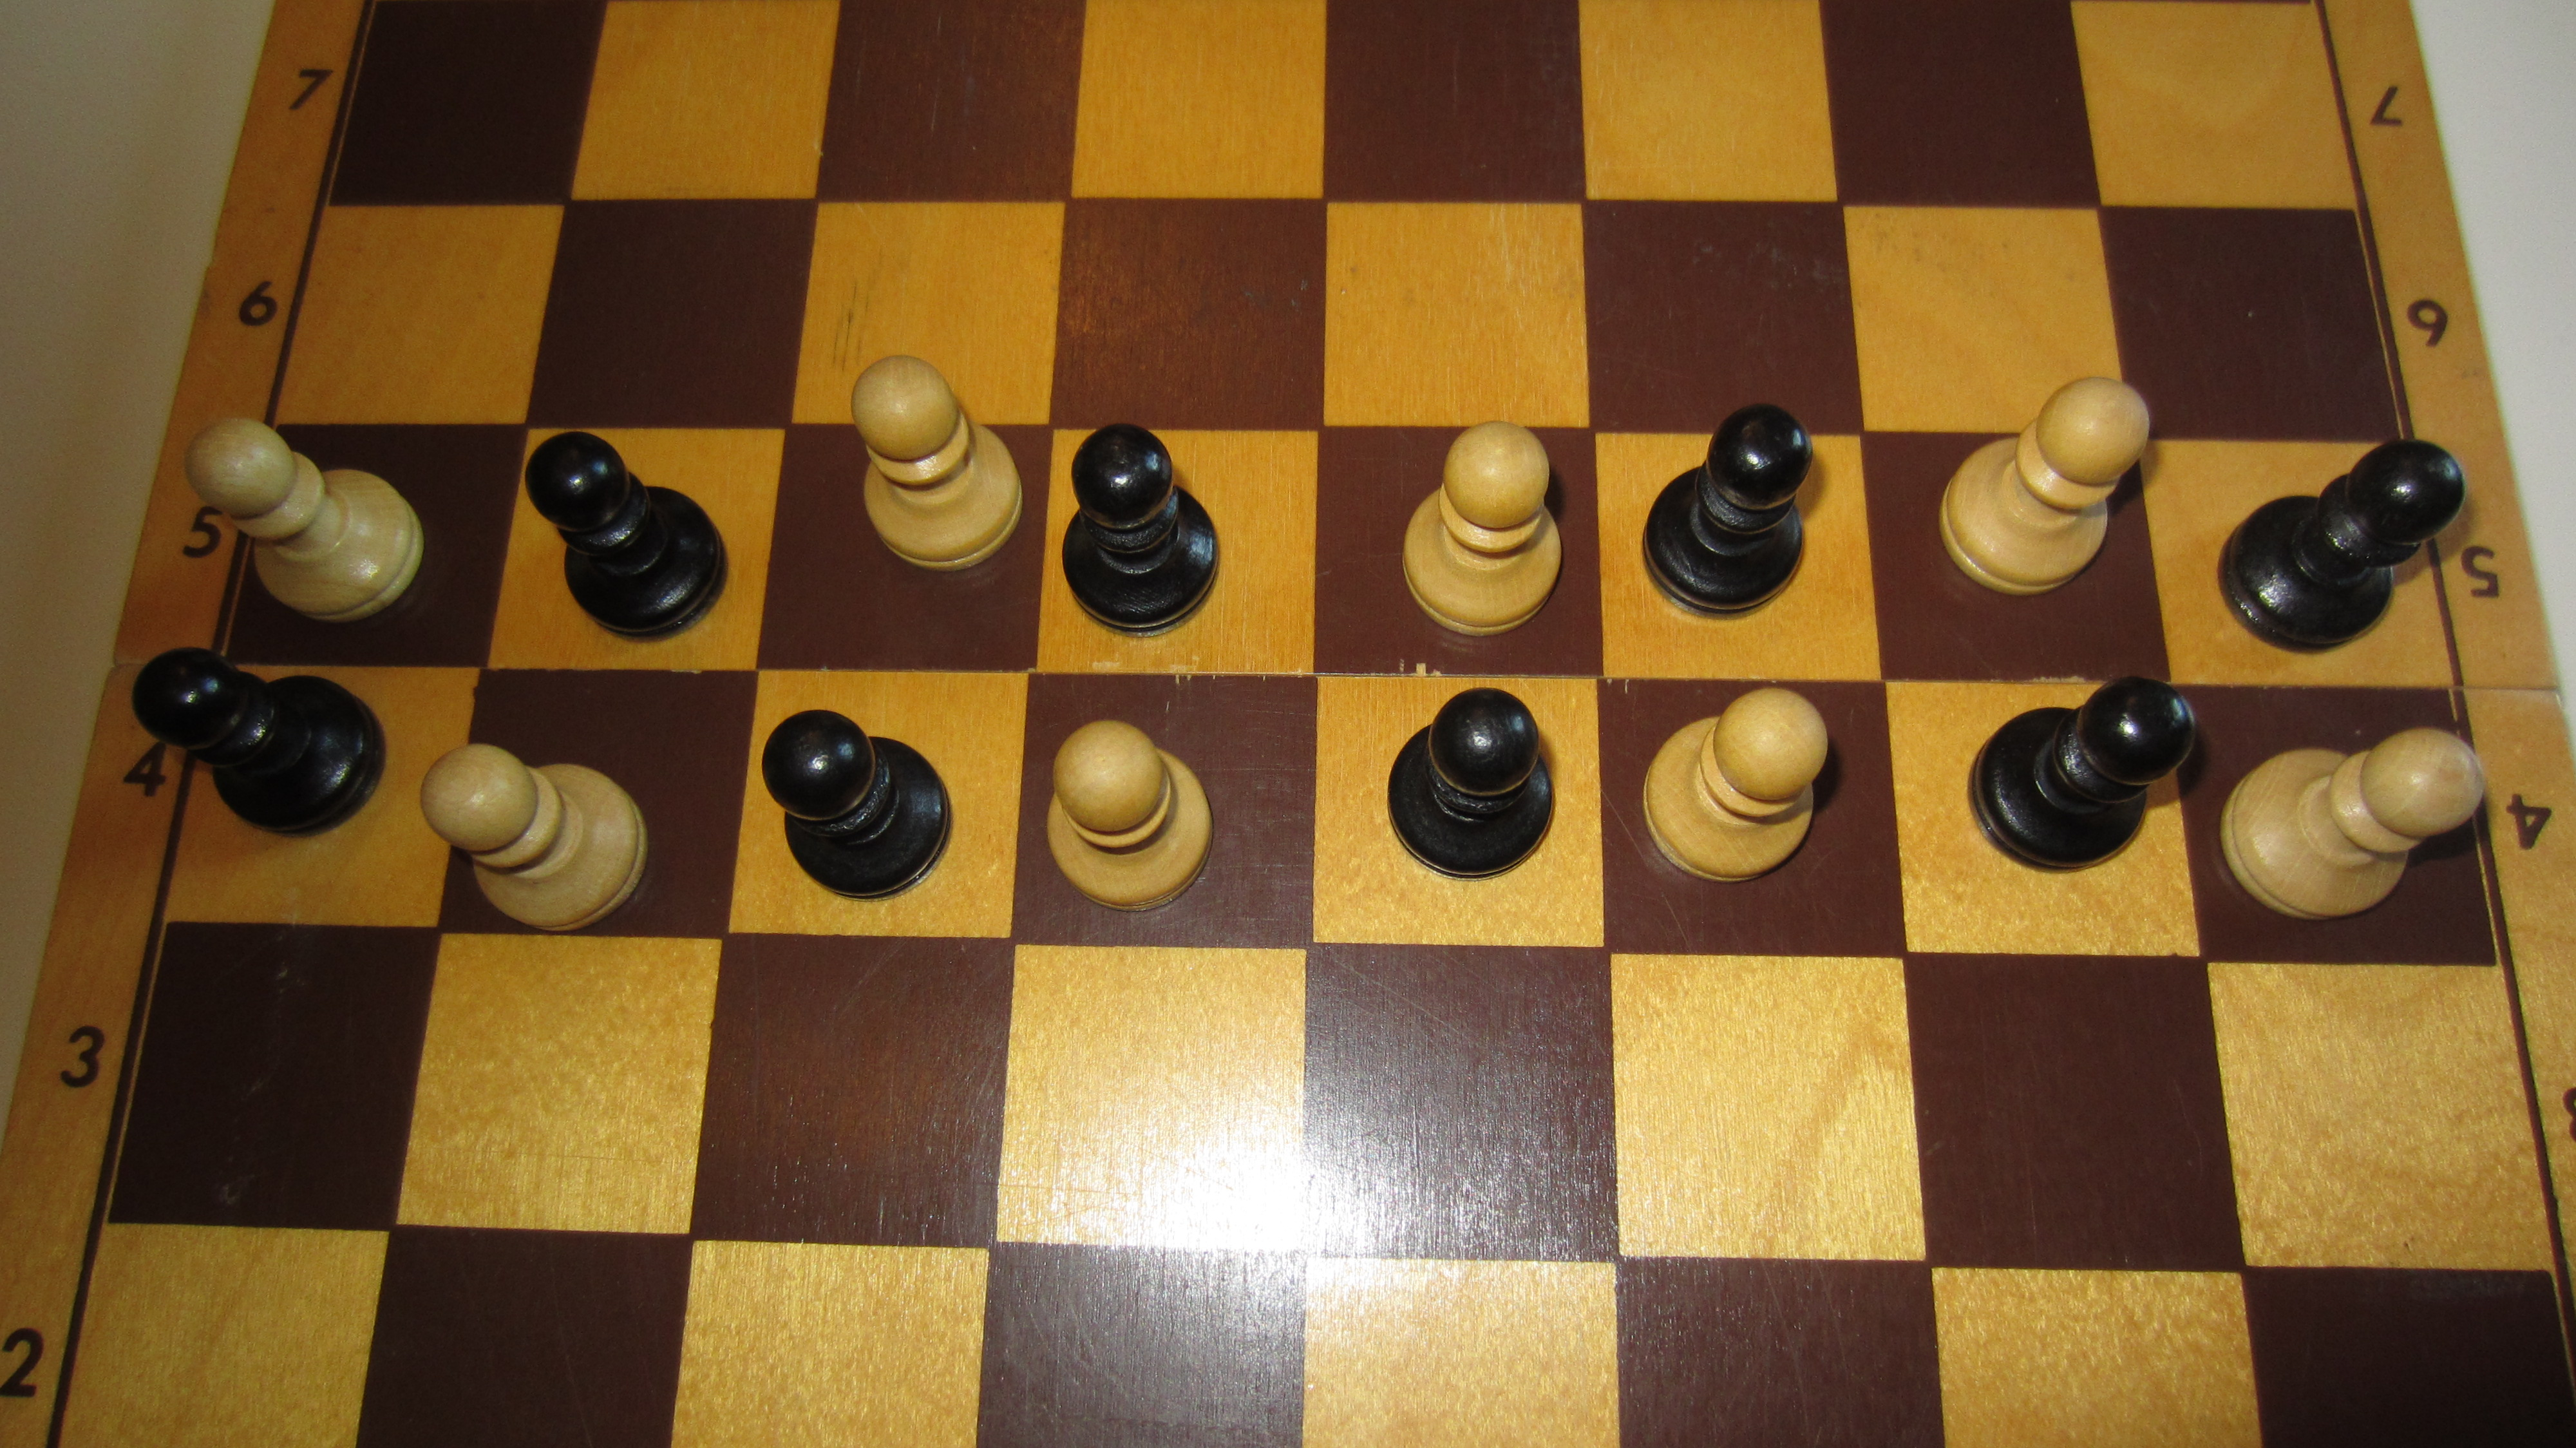black-pawn: (2213, 439, 2470, 653), (129, 644, 387, 839), (1966, 674, 2197, 873), (524, 432, 729, 641), (1640, 400, 1815, 620), (761, 708, 957, 901), (1060, 421, 1219, 639), (1384, 687, 1557, 883)
white-pawn: (2217, 724, 2486, 922), (182, 416, 426, 623), (1934, 375, 2151, 597), (418, 742, 651, 931), (846, 354, 1024, 574), (1640, 685, 1829, 883), (1398, 420, 1564, 637), (1044, 719, 1215, 915)
